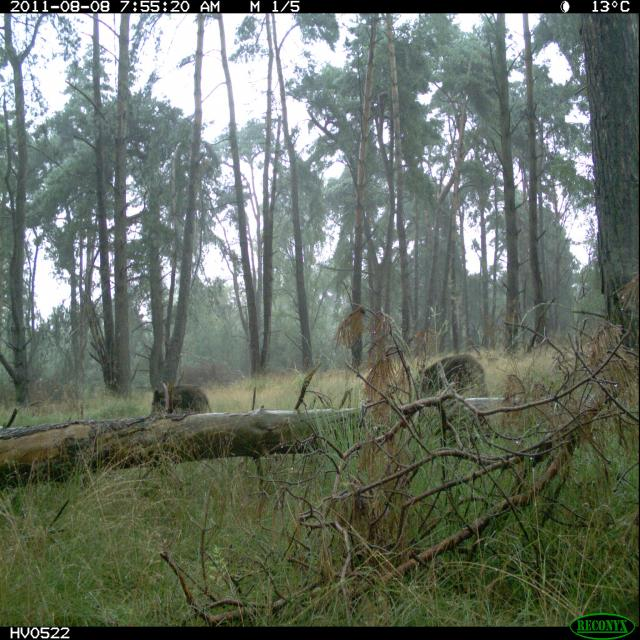boar: (134, 342, 242, 449), (408, 343, 507, 432)
